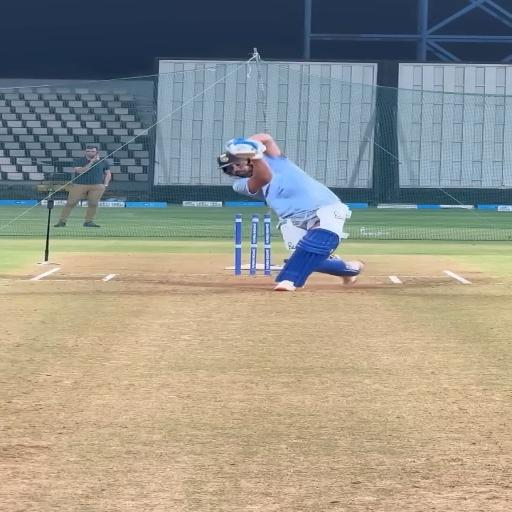Cricket bat: (238, 152, 260, 161)
